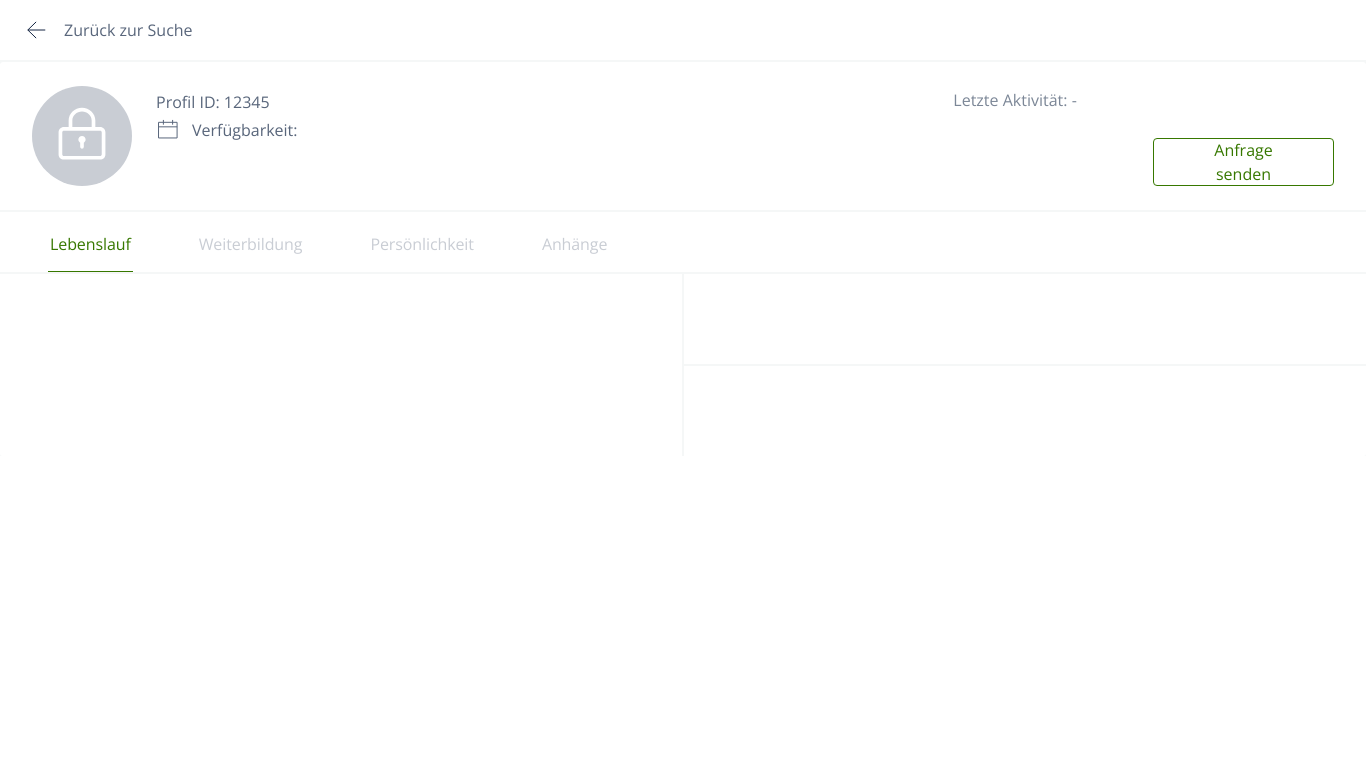
Test: Approval Page › should render approval page if send request button is clicked
Step 1. Click the button with test id "SendRequestButton" → (1244, 162), box [1153,138,1334,186]
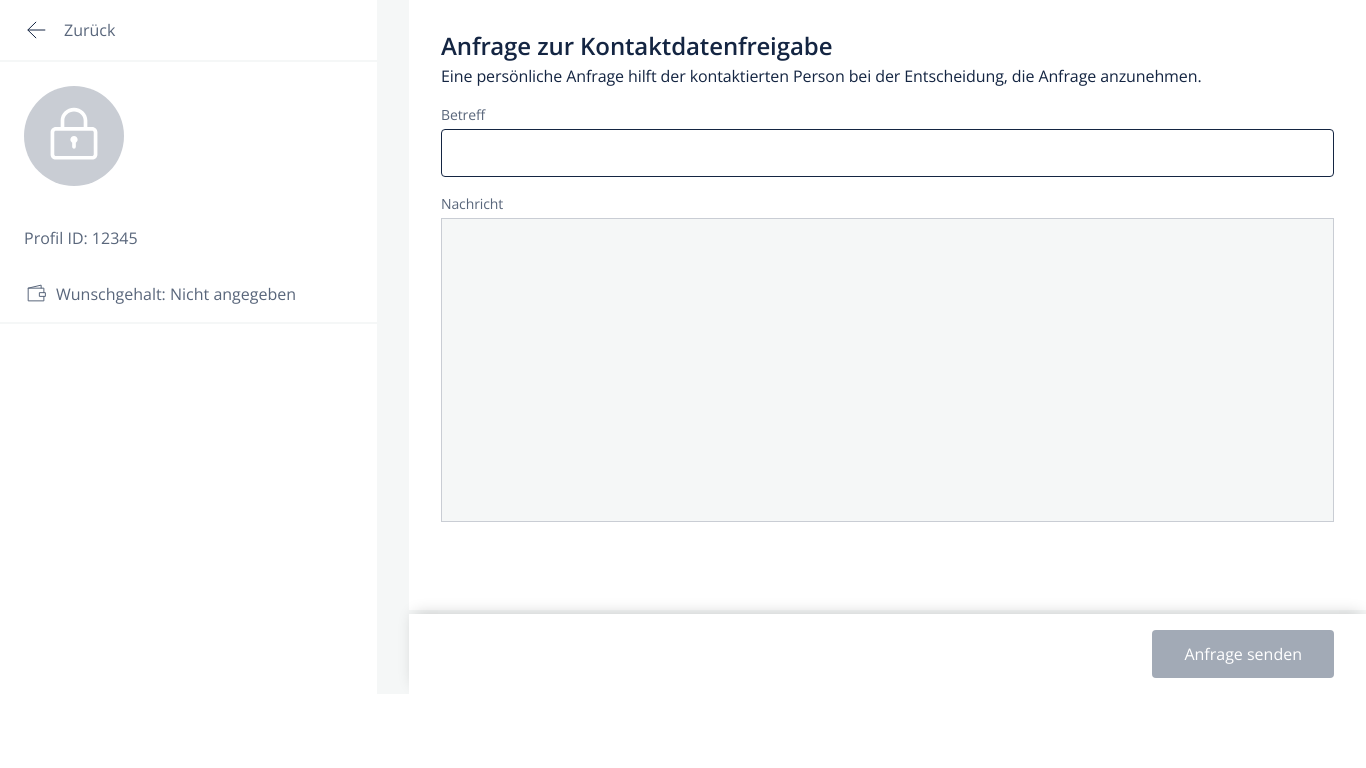
Expected: the element with test id "ApplicantApprovalInformation" is shown, [0,0,377,694]
Expected: the element with test id "ApplicantApprovalMessage" is shown
